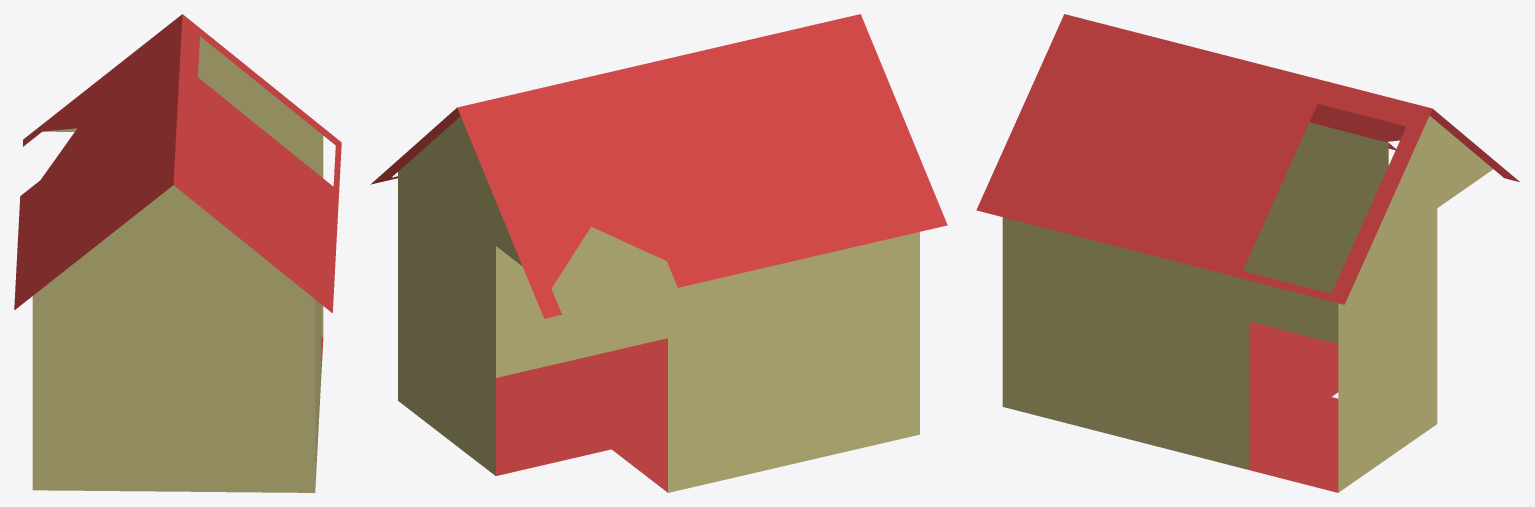
3 renders of one model, left to right at view 1: azimuth 30°, elevation 25°; view 2: azimuth 150°, elevation 25°; view 3: azimuth 270°, elevation 25°, orthographic. The views are drawn at different scales.
Bounding box in the file's own units: 20.14 × 21.35 × 14.46.
